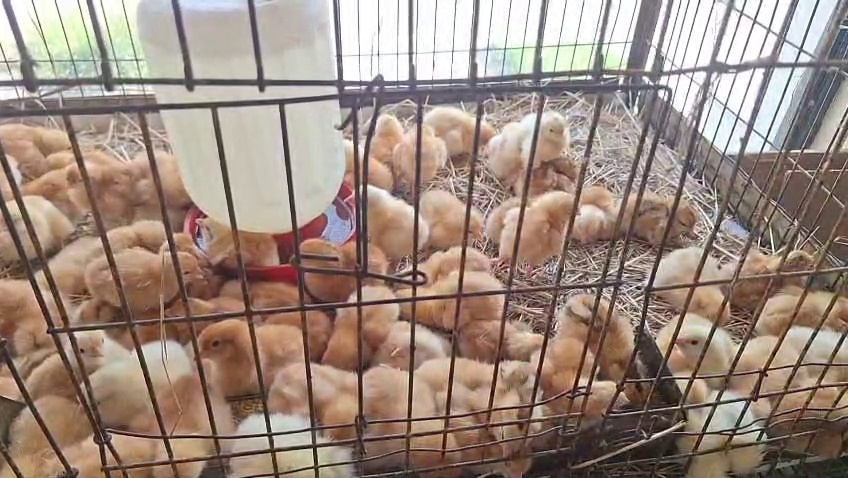Pollo: (358, 367, 468, 459), (77, 335, 189, 424), (262, 359, 368, 445), (527, 335, 633, 420), (219, 412, 353, 478), (187, 319, 313, 389), (151, 382, 238, 478), (77, 249, 210, 311), (338, 181, 432, 267), (283, 236, 398, 303), (716, 232, 821, 305), (552, 286, 639, 374), (739, 320, 804, 436), (316, 286, 405, 369), (493, 199, 581, 282), (479, 350, 544, 460), (648, 250, 742, 326), (652, 308, 742, 387), (690, 388, 766, 478), (7, 398, 89, 478), (187, 209, 285, 273), (752, 280, 847, 344), (125, 147, 198, 225), (0, 272, 72, 349), (619, 181, 699, 248), (414, 100, 506, 157), (52, 160, 142, 218), (410, 185, 488, 251), (415, 271, 513, 321), (216, 275, 315, 319), (368, 324, 455, 374), (1, 195, 63, 259), (0, 114, 79, 164), (388, 116, 445, 181), (574, 175, 623, 248), (48, 326, 122, 373), (482, 112, 535, 177), (512, 112, 572, 169), (471, 431, 541, 478), (95, 216, 174, 255), (368, 109, 407, 164)
